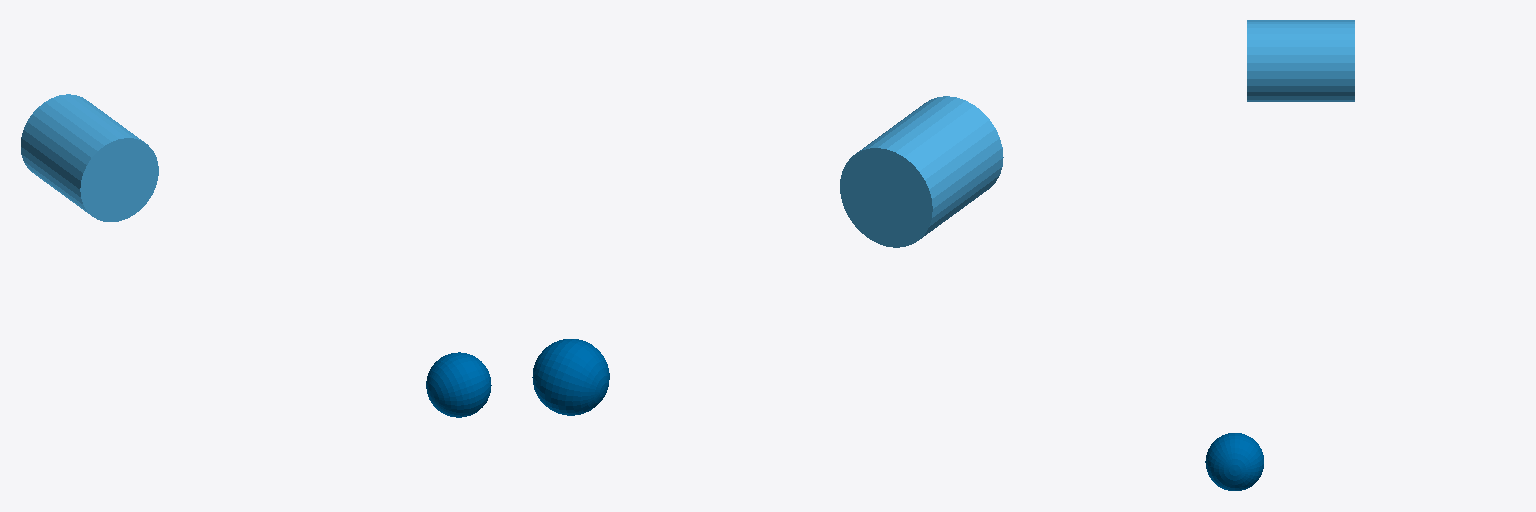
The robot description file, URDF, robot "hyq":
<?xml version="1.0" encoding="utf-8"?>
<robot name="hyq">
  <link name="base_link">
    <inertial>
      <origin xyz="0.0560691331299813 0.021493682967627666 0.0036081141592049586" rpy="0.0 0.0 0.0"/>
      <mass value="60.978"/>
      <inertia ixx="1.5727651692862368" ixy="0.02846518720991833" ixz="-0.20354038112779044" iyy="8.502743030521936" iyz="-0.004425323842294127" izz="9.196486342929056"/>
    </inertial>
  </link>

<!-- Joints -->
  <!-- HAA joint -->
  <joint name="rh_haa_joint" type="revolute">
    <origin rpy="0 1.57079632679 0" xyz="-0.4435 -0.139 0"/>
    <parent link="base_link"/>
    <child link="rh_hipassembly"/>
    <axis xyz="0 0 1"/>
    <dynamics damping="0.1" friction="0"/>
    <limit effort="173.0" lower="-0.733038285838" upper="0.401425727959" velocity="12.0"/>
    <safety_controller k_position="50" k_velocity="10" soft_lower_limit="-0.733038285838" soft_upper_limit="0.401425727959"/>
  </joint>
  <!-- HFE joint -->
  <joint name="rh_hfe_joint" type="revolute">
    <origin rpy="-1.57079632679 0 0" xyz="0 -0.117 0"/>
    <parent link="rh_hipassembly"/>
    <child link="rh_upperleg"/>
    <axis xyz="0 0 1"/>
    <dynamics damping="0.1" friction="0"/>
    <limit effort="208" lower="-2.35619449019" upper="2.35619449019" velocity="12.0"/>
    <safety_controller k_position="50" k_velocity="10" soft_lower_limit="-2.35619449019" soft_upper_limit="2.35619449019"/>
  </joint>
  <!-- KFE joint -->
  <joint name="rh_kfe_joint" type="revolute">
    <origin rpy="0 0 0" xyz="0.36 0 0"/>
    <parent link="rh_upperleg"/>
    <child link="rh_lowerleg"/>
    <axis xyz="0 0 1"/>
    <dynamics damping="0.1" friction="0"/>
    <limit effort="249" lower="-2.77001205584" upper="-0.669857366915" velocity="12.0"/>
    <safety_controller k_position="50.0" k_velocity="10.0" soft_lower_limit="-2.77001205584" soft_upper_limit="-0.669857366915"/>
  </joint>
  <!-- Foot joint -->
  <joint name="rh_foot_joint" type="fixed">
    <origin rpy="1.57079632679 0 -1.57079632679" xyz="0.38 0 0"/>
    <parent link="rh_lowerleg"/>
    <child link="rh_foot"/>
  </joint>
  <!-- Links -->
  <!-- Hip assembly link -->
  <link name="rh_hipassembly">
    <inertial>
      <origin xyz="-0.010027 -0.010608 0.003644"/>
      <mass value="4.973275"/>
      <inertia ixx="0.011231" ixy="-0.000592" ixz="0.000225" iyy="0.015768" iyz="0.000224" izz="0.016863"/>
    </inertial>
    <visual>
      <origin rpy="0 -1.57079632679 -1.57079632679" xyz="0 -0.046 0"/>
      <geometry>
         --&gt;

        <cylinder length="0.117" radius="0.0444"/>
      </geometry>
    </visual>
  </link>
  <!-- Upper leg link -->
  <link name="rh_upperleg">
    <inertial>
      <origin xyz="0.107987 -0.011459 0.002121"/>
      <mass value="5.877927"/>
      <inertia ixx="0.016432" ixy="0.001863" ixz="-0.003897" iyy="0.075737" iyz="0.00024" izz="0.079267"/>
    </inertial>
    <visual>
      <origin rpy="0 0 0" xyz="0 0 0"/>
      <geometry>
        <mesh filename="package://hyqreal_description/meshes/leg/upperleg.dae" scale="0.001 0.001 0.001"/>
      </geometry>
    </visual>
    <collision>
      <origin rpy="0 0 0" xyz="0 0 0"/>
      <geometry>
        <mesh filename="package://hyqreal_description/meshes/leg/upperleg.dae" scale="0.001 0.001 0.001"/>
      </geometry>
    </collision>
  </link>
  <!-- Lower leg link -->
  <link name="rh_lowerleg">
    <inertial>
      <origin xyz="0.149302 -0.003801 -0.000624"/>
      <mass value="1.291954"/>
      <inertia ixx="0.001088" ixy="-0.000572" ixz="0.000118" iyy="0.029215" iyz="0.00046" izz="0.029772"/>
    </inertial>
    <visual>
      <origin rpy="0 0 0" xyz="0 0 0"/>
      <geometry>
        <mesh filename="package://hyqreal_description/meshes/leg/lowerleg.dae" scale="0.001 0.001 0.001"/>
      </geometry>
      <material name="white"/>
    </visual>
    <collision>
      <origin rpy="0 0 0" xyz="0 0 0"/>
      <geometry>
        <mesh filename="package://hyqreal_description/meshes/leg/lowerleg_decimated.dae" scale="0.001 0.001 0.001"/>
      </geometry>
    </collision>
  </link>
  <!-- Foot link -->
  <link name="rh_foot">
    <visual>
      <origin rpy="0.0 0.0 0.0" xyz="0.0 0.0 0.0"/>
      <geometry>
        <sphere radius="0.032"/>
      </geometry>
      <material name="black"/>
    </visual>
    <collision>
      <origin rpy="0 0 0" xyz="0 0 0"/>
      <geometry>
        <sphere radius="0.032"/>
      </geometry>
    </collision>
  </link>

</robot>

--- Render facts (derived) ---
The picture shows the robot from 3 angles, left to right: view 1: azimuth 30°, elevation 25°; view 2: azimuth 150°, elevation 25°; view 3: azimuth 270°, elevation 25°; orthographic projection.
Model hyq with 5 links and 4 joints (3 revolute, 1 fixed), rooted at base_link, posed all joints at 0 but 1 set to mid-range because 0 is outside their limits (rh_kfe_joint = -1.72).
Links seen in each view (by area): view 1: rh_hipassembly, rh_foot; view 2: rh_hipassembly, rh_foot; view 3: rh_hipassembly, rh_foot.
Link boxes in pixels (<box>): rh_hipassembly: <box>21,94,158,221</box>; rh_foot: <box>426,352,491,417</box>; rh_hipassembly: <box>840,96,1003,247</box>; rh_foot: <box>532,339,609,415</box>; rh_hipassembly: <box>1247,20,1354,101</box>; rh_foot: <box>1205,433,1263,490</box>.
Bounding box of the posed robot: 0.4521 × 0.1615 × 0.3799 m (x, y, z).
Meshes: 2 distinct files referenced, 0 mesh visuals loaded (none loaded); not drawn: 2 (reference not matched to a file when rendering).